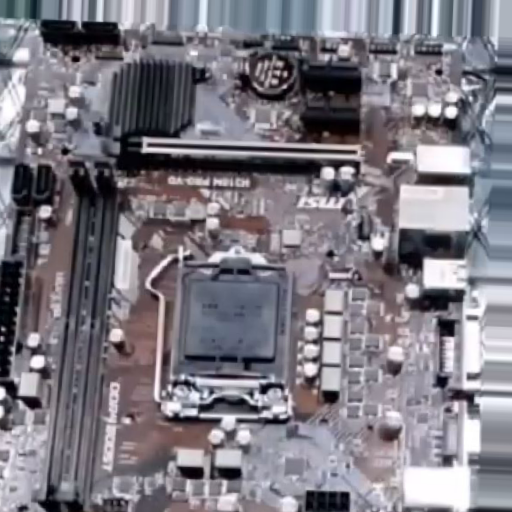CPU: (163, 246, 294, 425)
GPU: (100, 127, 367, 175)
MOTHERBOARD: (1, 34, 467, 502)
RAM: (40, 163, 124, 512)
